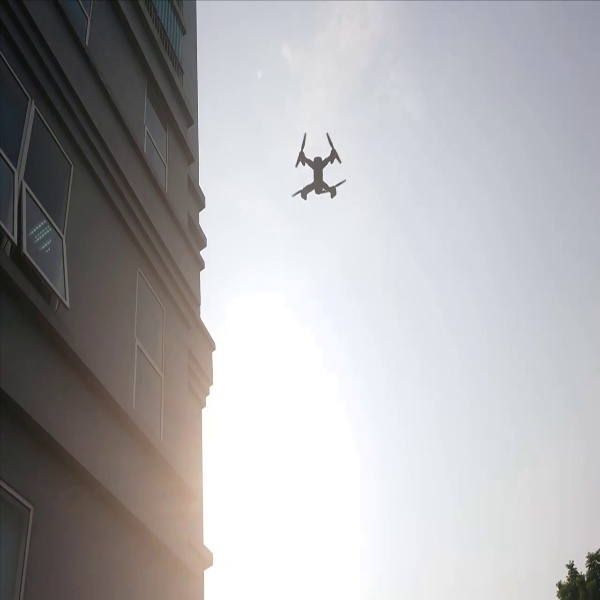drone: (285, 113, 356, 204)
